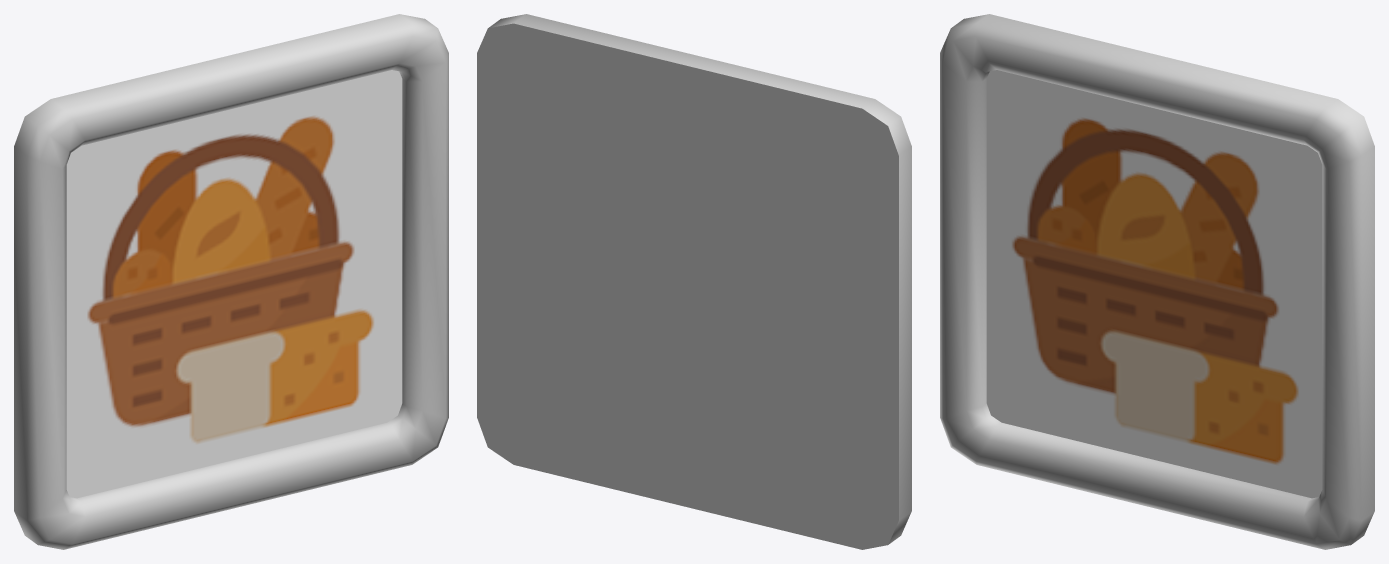
The model's file is Homestead_mbf_sy_2.fbx.
The picture shows the model from 3 angles, left to right: view 1: azimuth 30°, elevation 25°; view 2: azimuth 150°, elevation 25°; view 3: azimuth 330°, elevation 25°; orthographic projection.
Parts seen in each view (by area): view 1: Homestead_mbf_sy_2_01, Homestead_mbf_sy_2; view 2: Homestead_mbf_sy_2; view 3: Homestead_mbf_sy_2_01, Homestead_mbf_sy_2.
Part boxes in pixels (x1,y1,x2,y2): Homestead_mbf_sy_2_01: (66, 70, 402, 498); Homestead_mbf_sy_2: (14, 14, 448, 549); Homestead_mbf_sy_2: (477, 14, 911, 549); Homestead_mbf_sy_2_01: (986, 70, 1322, 498); Homestead_mbf_sy_2: (940, 14, 1374, 549).
Size of the model in its own units: 89.44 by 89.44 by 6.57.
